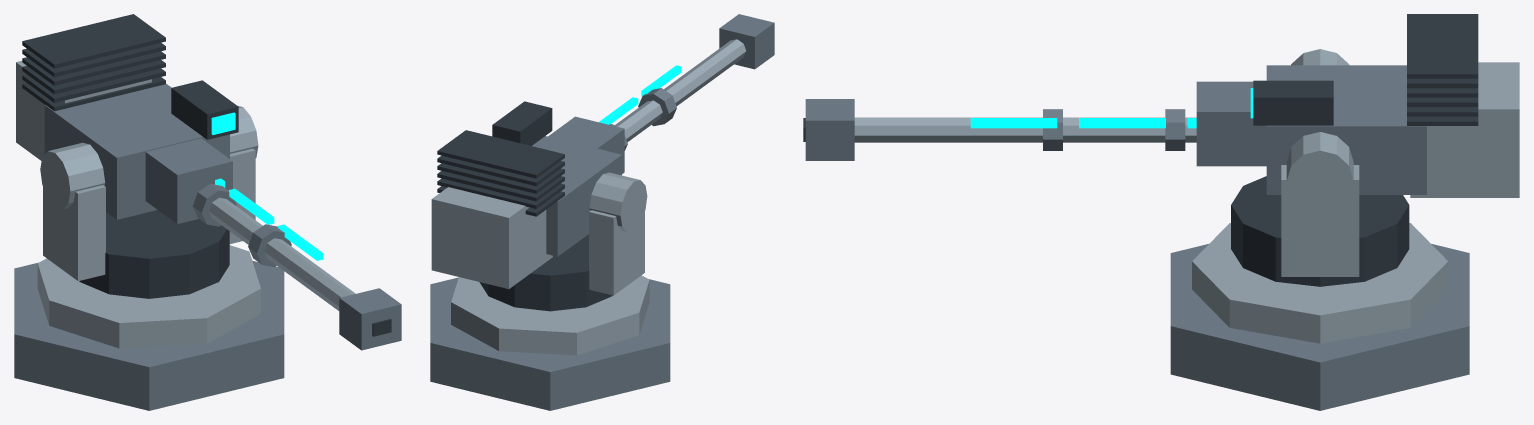
Rendered from needle_t2.glb.
3 renders of one model, left to right at view 1: azimuth 30°, elevation 25°; view 2: azimuth 150°, elevation 25°; view 3: azimuth 270°, elevation 25°, orthographic. The views are drawn at different scales.
Visible parts, largest first — view 1: Foundation, Base upper armor, Rear radiator (×6), Receiver, Yaw bearing, Elevation fork (×2), Tapered receiver, Trunnion (×2), Single accelerator, Slotted muzzle body, Offset optic, Rear equipment (+3 smaller); view 2: Foundation, Base upper armor, Rear equipment, Rear radiator (×6), Receiver, Yaw bearing, Elevation fork, Single accelerator, Trunnion, Slotted muzzle body, Offset optic, Tapered receiver (+2 smaller); view 3: Foundation, Base upper armor, Receiver, Rear equipment, Yaw bearing, Rear radiator (×6), Elevation fork, Single accelerator, Tapered receiver, Trunnion (×2), Offset optic, Slotted muzzle body (+2 smaller).
Boxes of the visible parts, <box> form: Foundation: <box>14,260,284,410</box>; Base upper armor: <box>37,245,260,348</box>; Rear radiator (×6): <box>22,14,165,111</box>; Receiver: <box>44,83,229,219</box>; Yaw bearing: <box>79,210,229,298</box>; Elevation fork (×2): <box>43,148,255,281</box>; Tapered receiver: <box>145,138,232,223</box>; Trunnion (×2): <box>40,105,258,209</box>; Single accelerator: <box>209,197,355,310</box>; Slotted muzzle body: <box>339,288,401,350</box>; Offset optic: <box>171,80,238,139</box>; Rear equipment: <box>16,60,151,160</box>; Foundation: <box>430,277,670,410</box>; Base upper armor: <box>451,275,649,355</box>; Rear equipment: <box>431,187,552,288</box>; Rear radiator (×6): <box>437,130,564,216</box>; Receiver: <box>532,136,621,256</box>; Yaw bearing: <box>479,234,612,311</box>; Elevation fork: <box>589,210,644,295</box>; Single accelerator: <box>614,39,746,142</box>; Trunnion: <box>589,172,647,231</box>; Slotted muzzle body: <box>719,14,774,69</box>; Offset optic: <box>492,101,552,145</box>; Tapered receiver: <box>548,116,624,173</box>; Foundation: <box>1170,243,1469,410</box>; Base upper armor: <box>1192,223,1448,343</box>; Receiver: <box>1266,65,1426,194</box>; Rear equipment: <box>1410,62,1519,197</box>; Yaw bearing: <box>1231,176,1409,286</box>; Rear radiator (×6): <box>1407,14,1478,125</box>; Elevation fork: <box>1281,165,1359,276</box>; Single accelerator: <box>854,117,1196,142</box>; Tapered receiver: <box>1196,81,1266,166</box>; Trunnion (×2): <box>1286,49,1353,210</box>; Offset optic: <box>1253,80,1333,125</box>; Slotted muzzle body: <box>805,99,854,160</box>.
Size of the model in its own units: 1.55 by 1.46 by 3.22.
